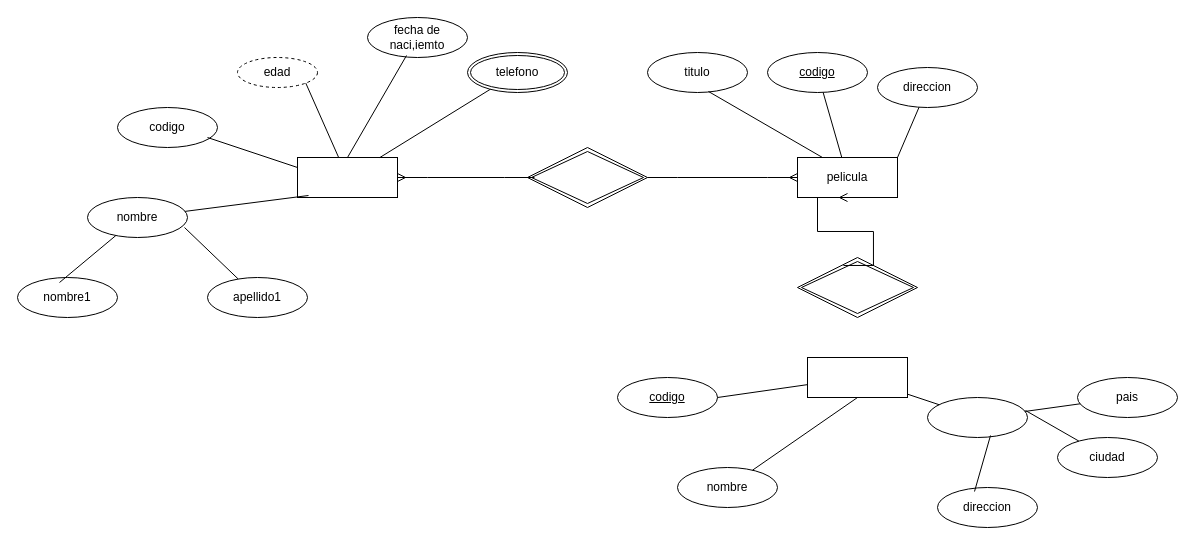
The diagram is 1195 pixels wide and 545 high, and some of its shapes have lost their labels. The shapes that lost their labels are listed below. From the top down, each one's box as (x1, y1, x2, y2) in pixels, then its label:
(296, 156, 398, 198): actor
(526, 146, 648, 208): actua
(796, 256, 918, 318): produce
(806, 356, 908, 398): estudio
(926, 396, 1028, 438): domicilo
